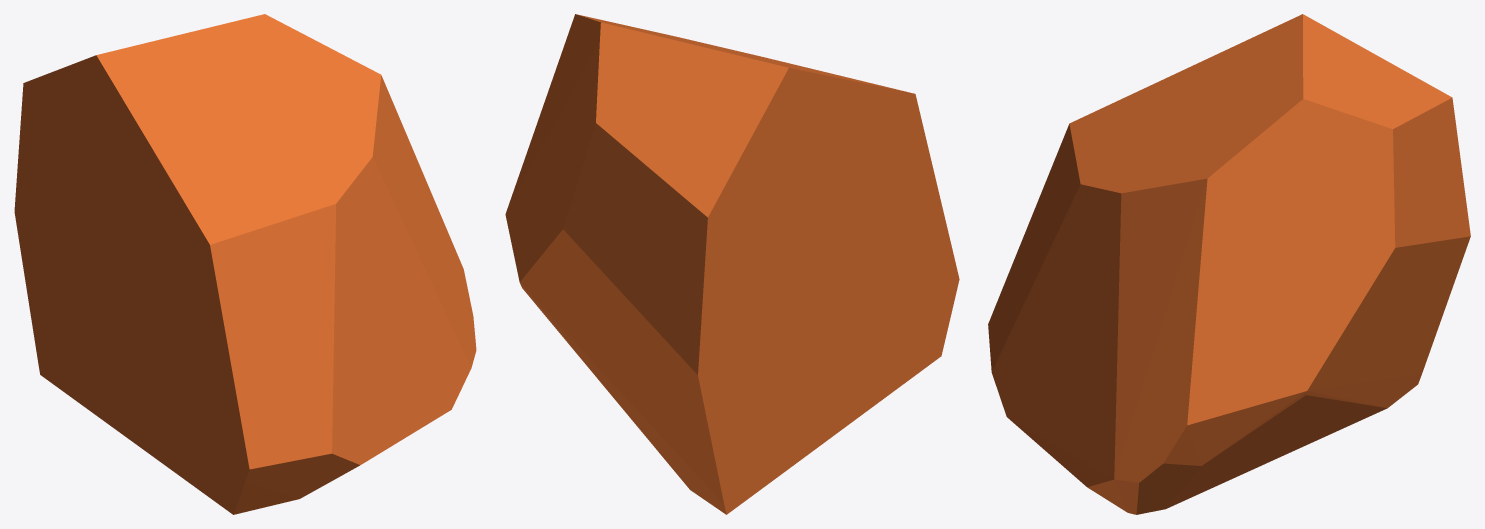
The model's file is SMALLROCK10.fbx.
3 views of the same model, side by side, from view 1: azimuth 30°, elevation 25°; view 2: azimuth 150°, elevation 25°; view 3: azimuth 270°, elevation 25° (orthographic). The views are drawn at different scales.
Parts seen in each view (by area): view 1: SMALLROCK10; view 2: SMALLROCK10; view 3: SMALLROCK10.
Part boxes in pixels (x1=…): SMALLROCK10: x1=14, y1=14, x2=476, y2=514; SMALLROCK10: x1=505, y1=14, x2=959, y2=514; SMALLROCK10: x1=988, y1=14, x2=1470, y2=514.
Size of the model in its own units: 45.33 by 50.22 by 59.32.
